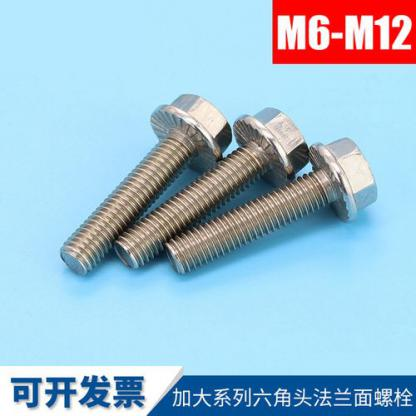FOD: (58, 90, 233, 280), (113, 104, 310, 272), (162, 133, 380, 278)
